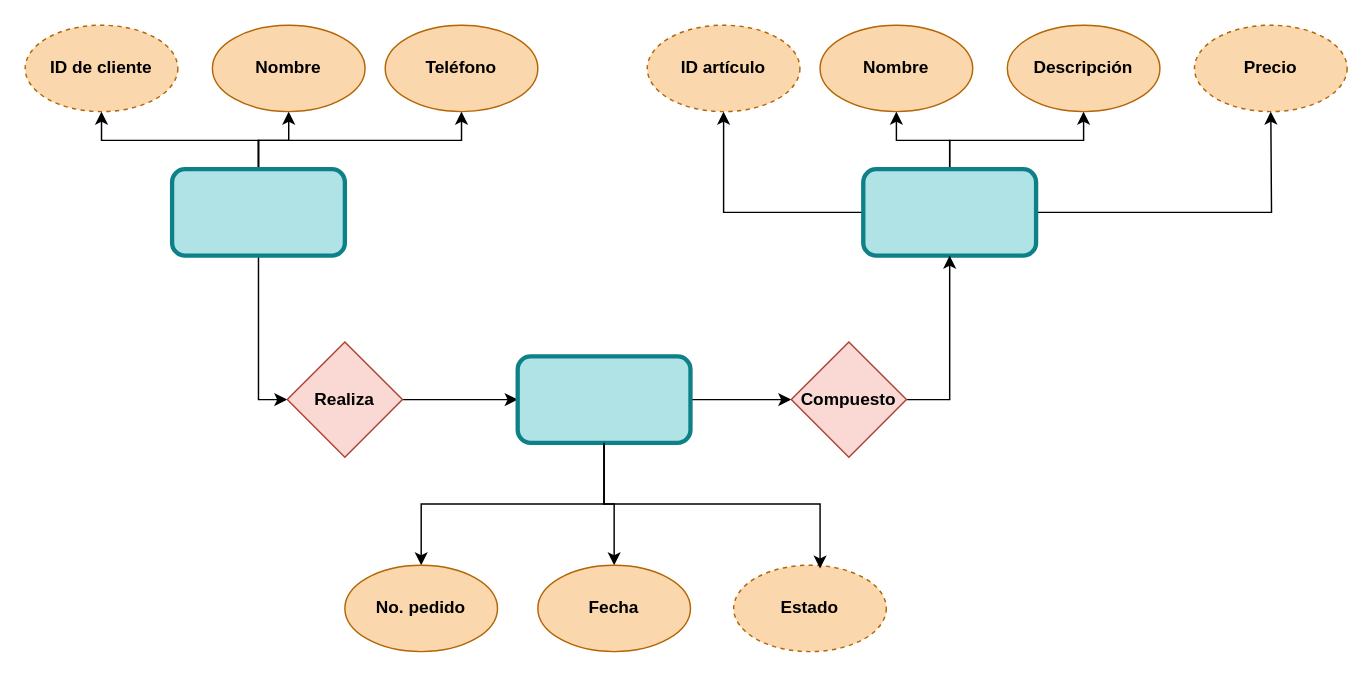
The diagram is 1372 pixels wide and 677 high, and some of its shapes have lost their labels. The centre of each missing label's shape, as x and y in pixels:
"Artículo" belongs at point (949, 211).
"Cliente" belongs at point (257, 211).
"Pedido" belongs at point (603, 399).
